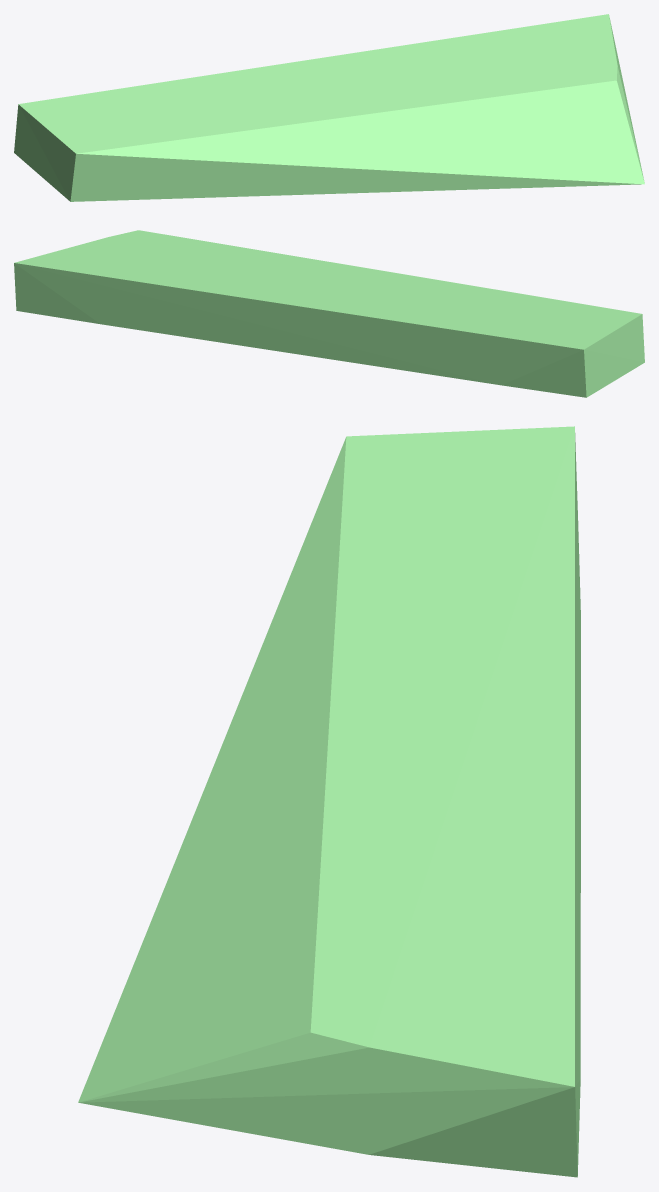
The model's file is UMIRobot_UMIRobot_link_5_convex_coll_77.dae.
The picture shows the model from 3 angles, top to bottom: view 1: azimuth 30°, elevation 25°; view 2: azimuth 150°, elevation 25°; view 3: azimuth 270°, elevation 25°; orthographic projection. The views are drawn at different scales.
Visible parts, largest first — view 1: node; view 2: node; view 3: node.
Boxes of the visible parts, bbox=[...] form: node: bbox=[14, 14, 644, 201]; node: bbox=[14, 230, 644, 397]; node: bbox=[78, 426, 580, 1177].
Size of the model in its own units: 0.0321 by 0.00553 by 0.0122.
